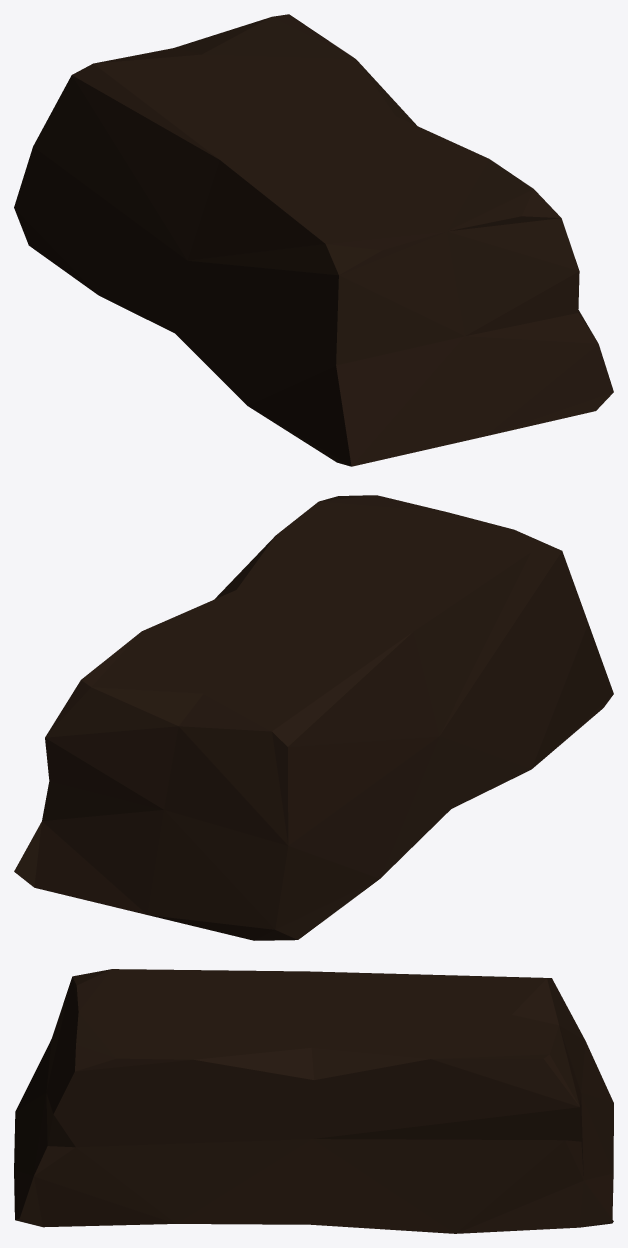
File: SFFA_Iron_Bar.fbx
The picture shows the model from 3 angles, top to bottom: view 1: azimuth 30°, elevation 25°; view 2: azimuth 150°, elevation 25°; view 3: azimuth 270°, elevation 25°; orthographic projection. The views are drawn at different scales.
Visible parts, largest first — view 1: SFFA_Iron_Bar; view 2: SFFA_Iron_Bar; view 3: SFFA_Iron_Bar.
Part boxes in pixels (x1,y1,x2,y2): SFFA_Iron_Bar: (14,14,613,466); SFFA_Iron_Bar: (14,495,613,940); SFFA_Iron_Bar: (14,969,613,1233).
Bounding box in the file's own units: 10.67 × 6.82 × 22.15.
